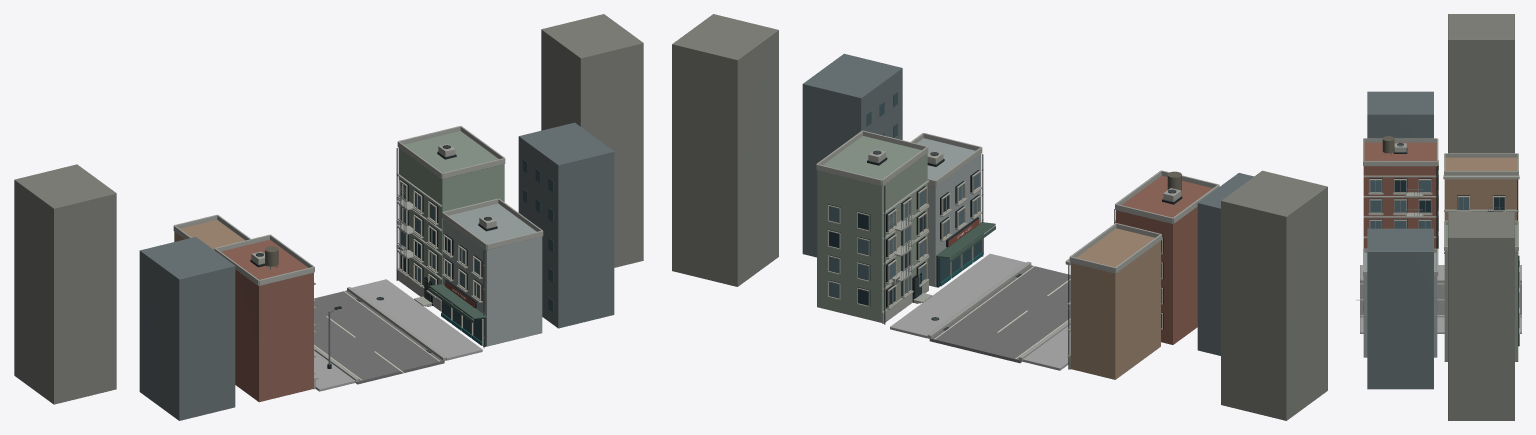
Rendered from city_hd_00.glb.
3 renders of one model, left to right at view 1: azimuth 30°, elevation 25°; view 2: azimuth 150°, elevation 25°; view 3: azimuth 270°, elevation 25°, orthographic. The views are drawn at different scales.
Visible parts, largest first — view 1: CITY_distant_1, CITY_distant_0, Masonry apartment volume, Mixed use shop volume, CITY_PBR_asphalt, Masonry apartment volume.001, CITY_trim, CITY_PBR_pavement, CITY_frame, CITY_glass, Narrow townhouse volume, CITY_darkmetal (+4 smaller); view 2: CITY_distant_1, CITY_distant_0, Masonry apartment volume.001, Narrow townhouse volume, CITY_PBR_asphalt, Masonry apartment volume, CITY_trim, CITY_PBR_pavement, Mixed use shop volume, CITY_frame, CITY_glass, CITY_recess (+5 smaller); view 3: CITY_distant_1, CITY_distant_0, Masonry apartment volume, CITY_trim, Narrow townhouse volume, CITY_glass, CITY_frame, Masonry apartment volume.001, Mixed use shop volume, CITY_recess, CITY_glass_dark, CITY_PBR_asphalt (+4 smaller).
Part boxes in pixels (x1,y1,x2,y2): CITY_distant_1: (14, 14, 643, 404); CITY_distant_0: (139, 122, 614, 420); Masonry apartment volume: (221, 239, 313, 402); Mixed use shop volume: (443, 203, 542, 346); CITY_PBR_asphalt: (314, 290, 444, 384); Masonry apartment volume.001: (398, 131, 504, 295); CITY_trim: (173, 126, 543, 389); CITY_PBR_pavement: (314, 279, 482, 391); CITY_frame: (398, 180, 483, 345); CITY_glass: (400, 182, 479, 298); Narrow townhouse volume: (174, 220, 245, 249); CITY_darkmetal: (250, 145, 497, 368); CITY_distant_1: (672, 14, 1327, 420); CITY_distant_0: (802, 53, 1253, 355); Masonry apartment volume.001: (817, 136, 927, 322); Narrow townhouse volume: (1070, 228, 1160, 379); CITY_PBR_asphalt: (929, 265, 1070, 363); Masonry apartment volume: (1115, 176, 1212, 344); CITY_trim: (816, 130, 1219, 369); CITY_PBR_pavement: (890, 253, 1070, 370); Mixed use shop volume: (916, 138, 981, 287); CITY_frame: (827, 170, 1162, 329); CITY_glass: (829, 173, 1161, 303); CITY_recess: (828, 170, 1163, 329); CITY_distant_1: (1448, 14, 1514, 420); CITY_distant_0: (1367, 91, 1433, 389); Masonry apartment volume: (1363, 142, 1437, 248); CITY_trim: (1363, 138, 1519, 276); Narrow townhouse volume: (1444, 157, 1518, 220); CITY_glass: (1370, 171, 1468, 247); CITY_frame: (1369, 160, 1519, 346); Masonry apartment volume.001: (1444, 225, 1518, 361); Mixed use shop volume: (1363, 252, 1437, 357); CITY_recess: (1369, 166, 1518, 346); CITY_glass_dark: (1395, 166, 1504, 231); CITY_PBR_asphalt: (1360, 282, 1521, 314).
Bounding box in the file's own units: 56.65 × 20.26 × 16.4.
